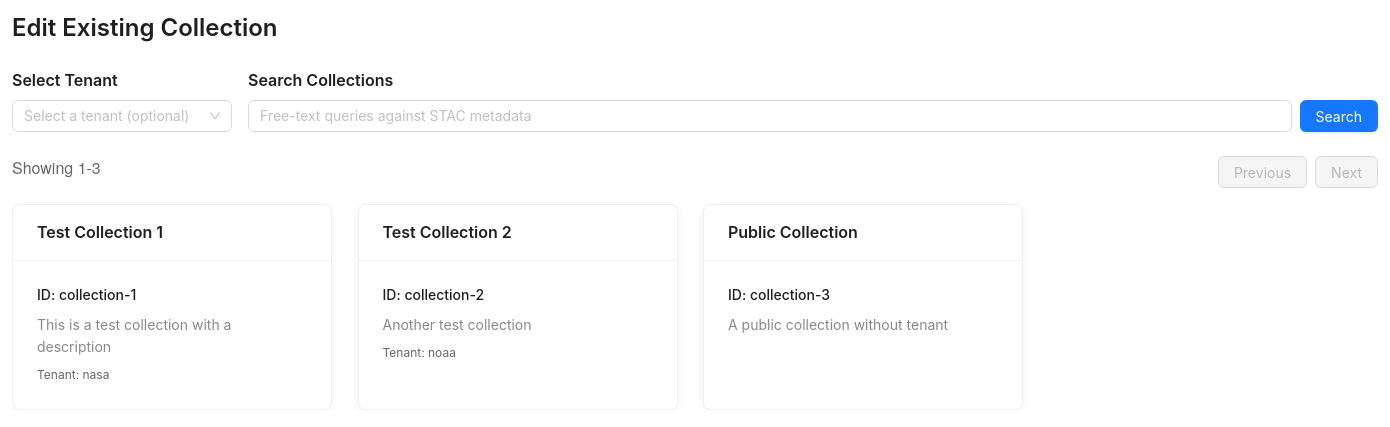
Scenario: ExistingCollectionsList › should display all tenant options including Public
Check: the heading "Select Tenant" is shown, box [12,70,118,90]
Step 1. Click the element showing "Select a tenant (optional)" → (122, 116), box [12,100,232,132]
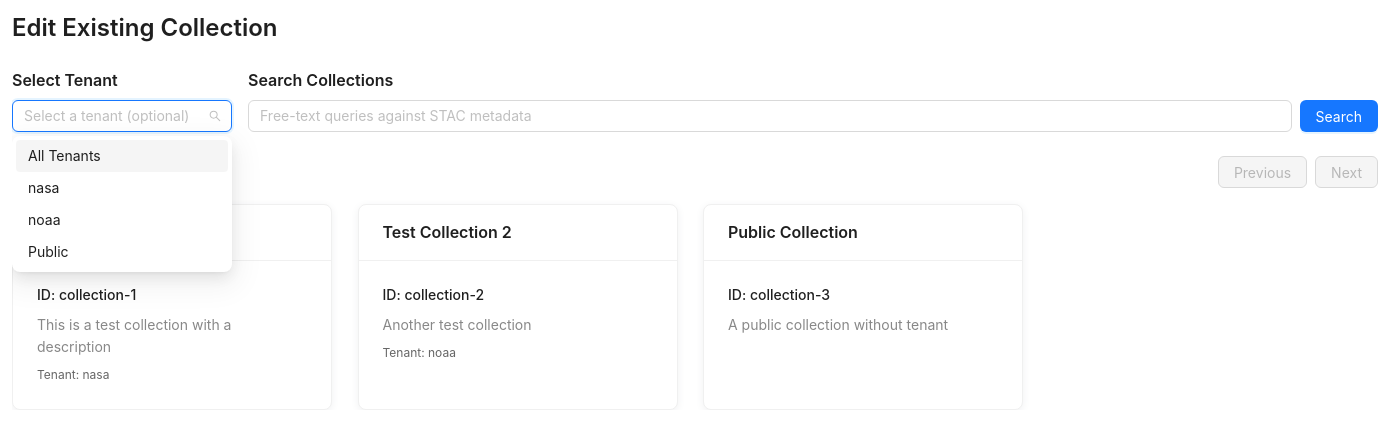
Check: the text "All Tenants" is shown, box [28,147,101,164]
Check: the text "Public" is shown, box [28,243,69,260]
